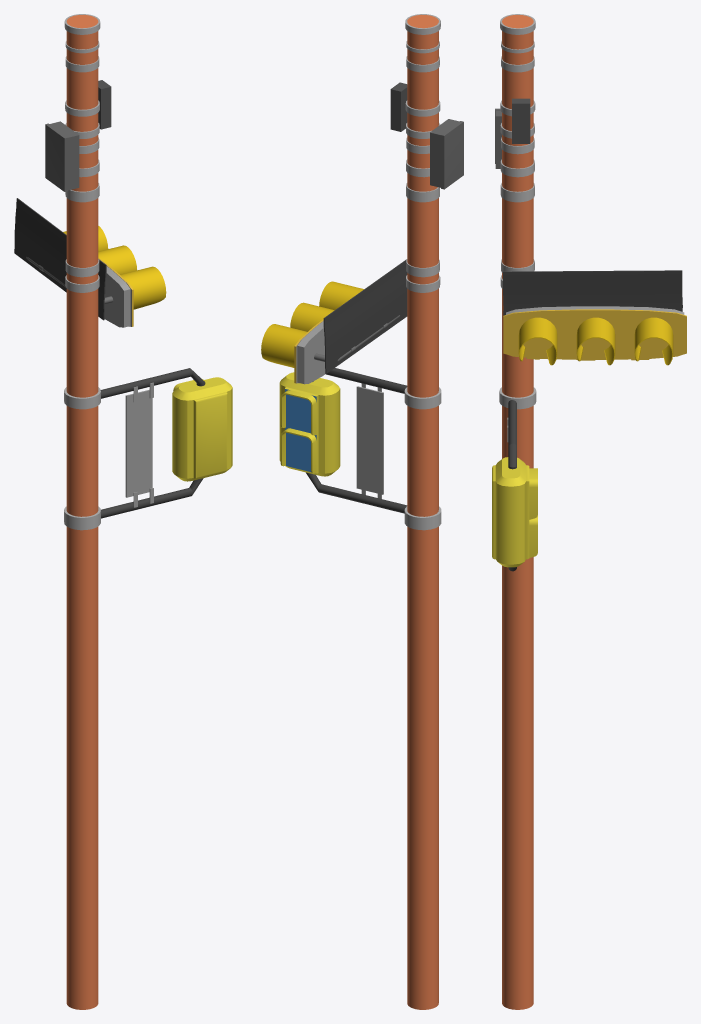
File: LightPole_BLE.fbx
3 renders of one model, left to right at view 1: azimuth 30°, elevation 25°; view 2: azimuth 150°, elevation 25°; view 3: azimuth 270°, elevation 25°, orthographic.
Parts seen in each view (by area): view 1: 3LightHoods.001; view 2: 3LightHoods.001; view 3: 3LightHoods.001.
Part boxes in pixels (left/top/right/bottom): 3LightHoods.001: left=14, top=14, right=232, bottom=1009; 3LightHoods.001: left=261, top=14, right=463, bottom=1009; 3LightHoods.001: left=492, top=14, right=686, bottom=1009.
Bounding box in the file's own units: 350 × 1899 × 342.
